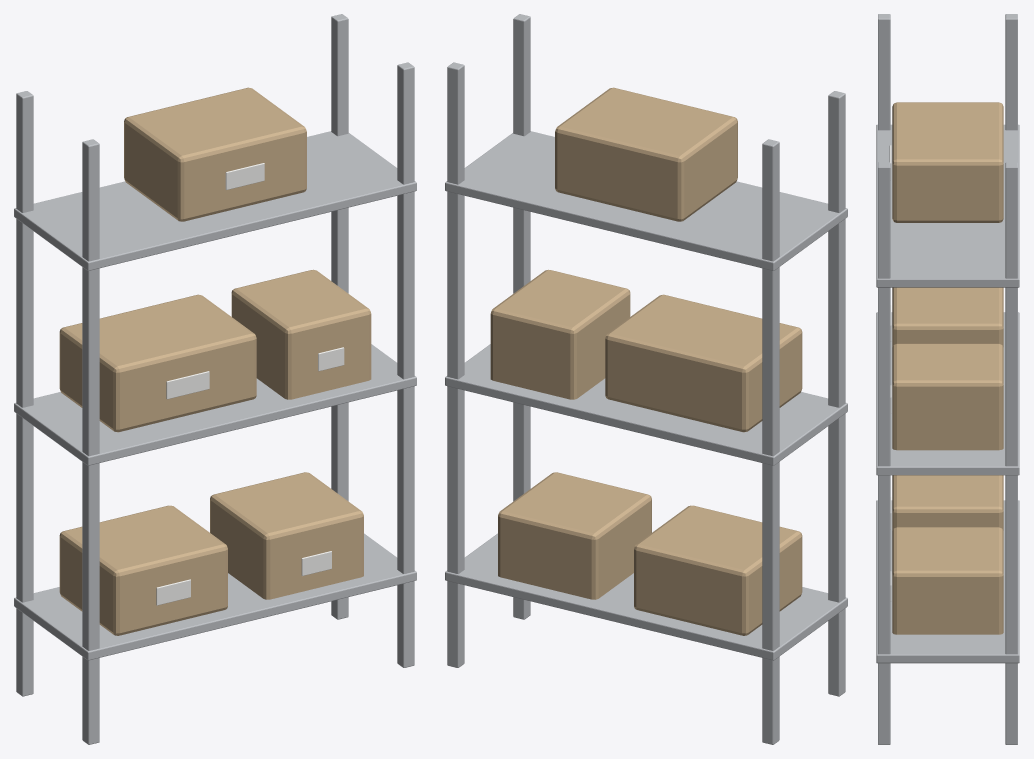
Rendered from ShelfWithBoxes.fbx.
The picture shows the model from 3 angles, left to right: view 1: azimuth 30°, elevation 25°; view 2: azimuth 150°, elevation 25°; view 3: azimuth 270°, elevation 25°; orthographic projection. The views are drawn at different scales.
Parts seen in each view (by area): view 1: ShelfWithBoxes; view 2: ShelfWithBoxes; view 3: ShelfWithBoxes.
Part boxes in pixels (left/top/right/bottom): ShelfWithBoxes: left=14, top=14, right=416, bottom=744; ShelfWithBoxes: left=445, top=14, right=847, bottom=744; ShelfWithBoxes: left=876, top=14, right=1019, bottom=744.
Bounding box in the file's own units: 115 × 200 × 45.
